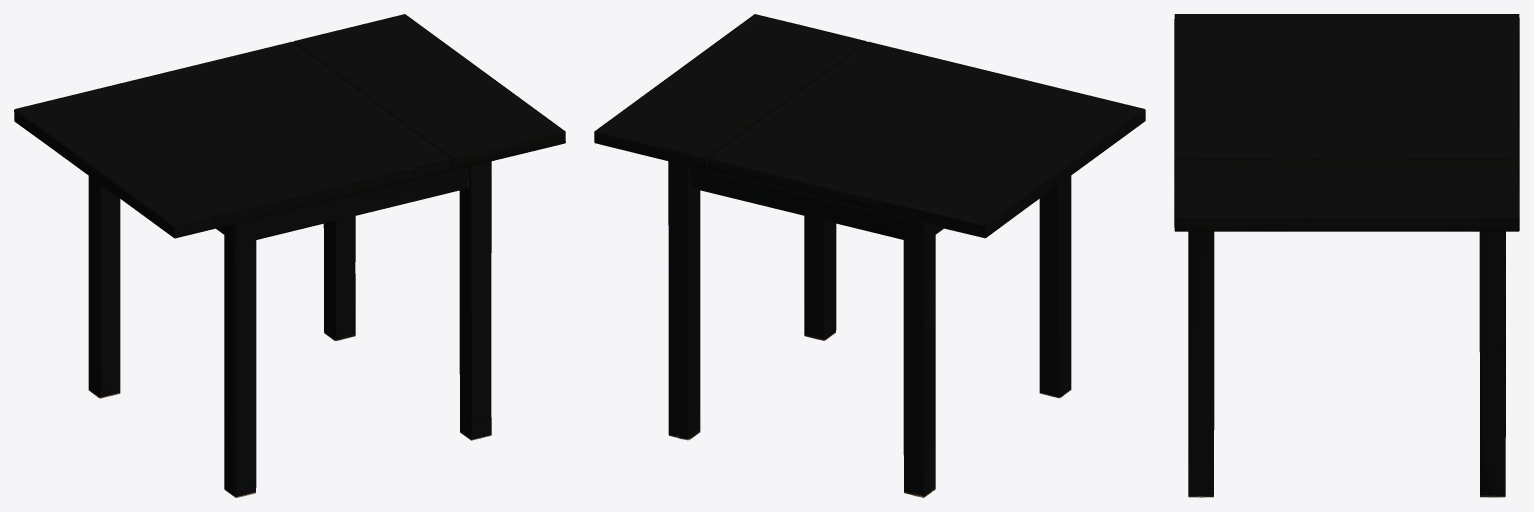
3 views of the same model, side by side, from view 1: azimuth 30°, elevation 25°; view 2: azimuth 150°, elevation 25°; view 3: azimuth 270°, elevation 25° (orthographic). The views are drawn at different scales.
Parts seen in each view (by area): view 1: ProcessedMeshNode; view 2: ProcessedMeshNode; view 3: ProcessedMeshNode.
Boxes of the visible parts, x1,y1,x2,y2 form: ProcessedMeshNode: (14, 14, 565, 497); ProcessedMeshNode: (594, 14, 1145, 497); ProcessedMeshNode: (1174, 14, 1519, 497).
Size of the model in its own units: 1.04 by 0.7474 by 0.7402.
1 material, 1 textured.
